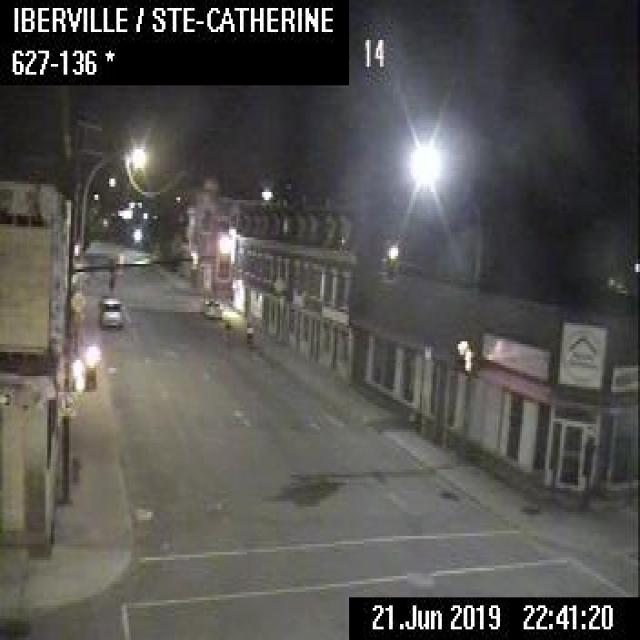cyclist: (244, 320, 253, 350), (223, 316, 230, 349)
vehicle: (98, 292, 122, 327), (200, 296, 221, 314)
